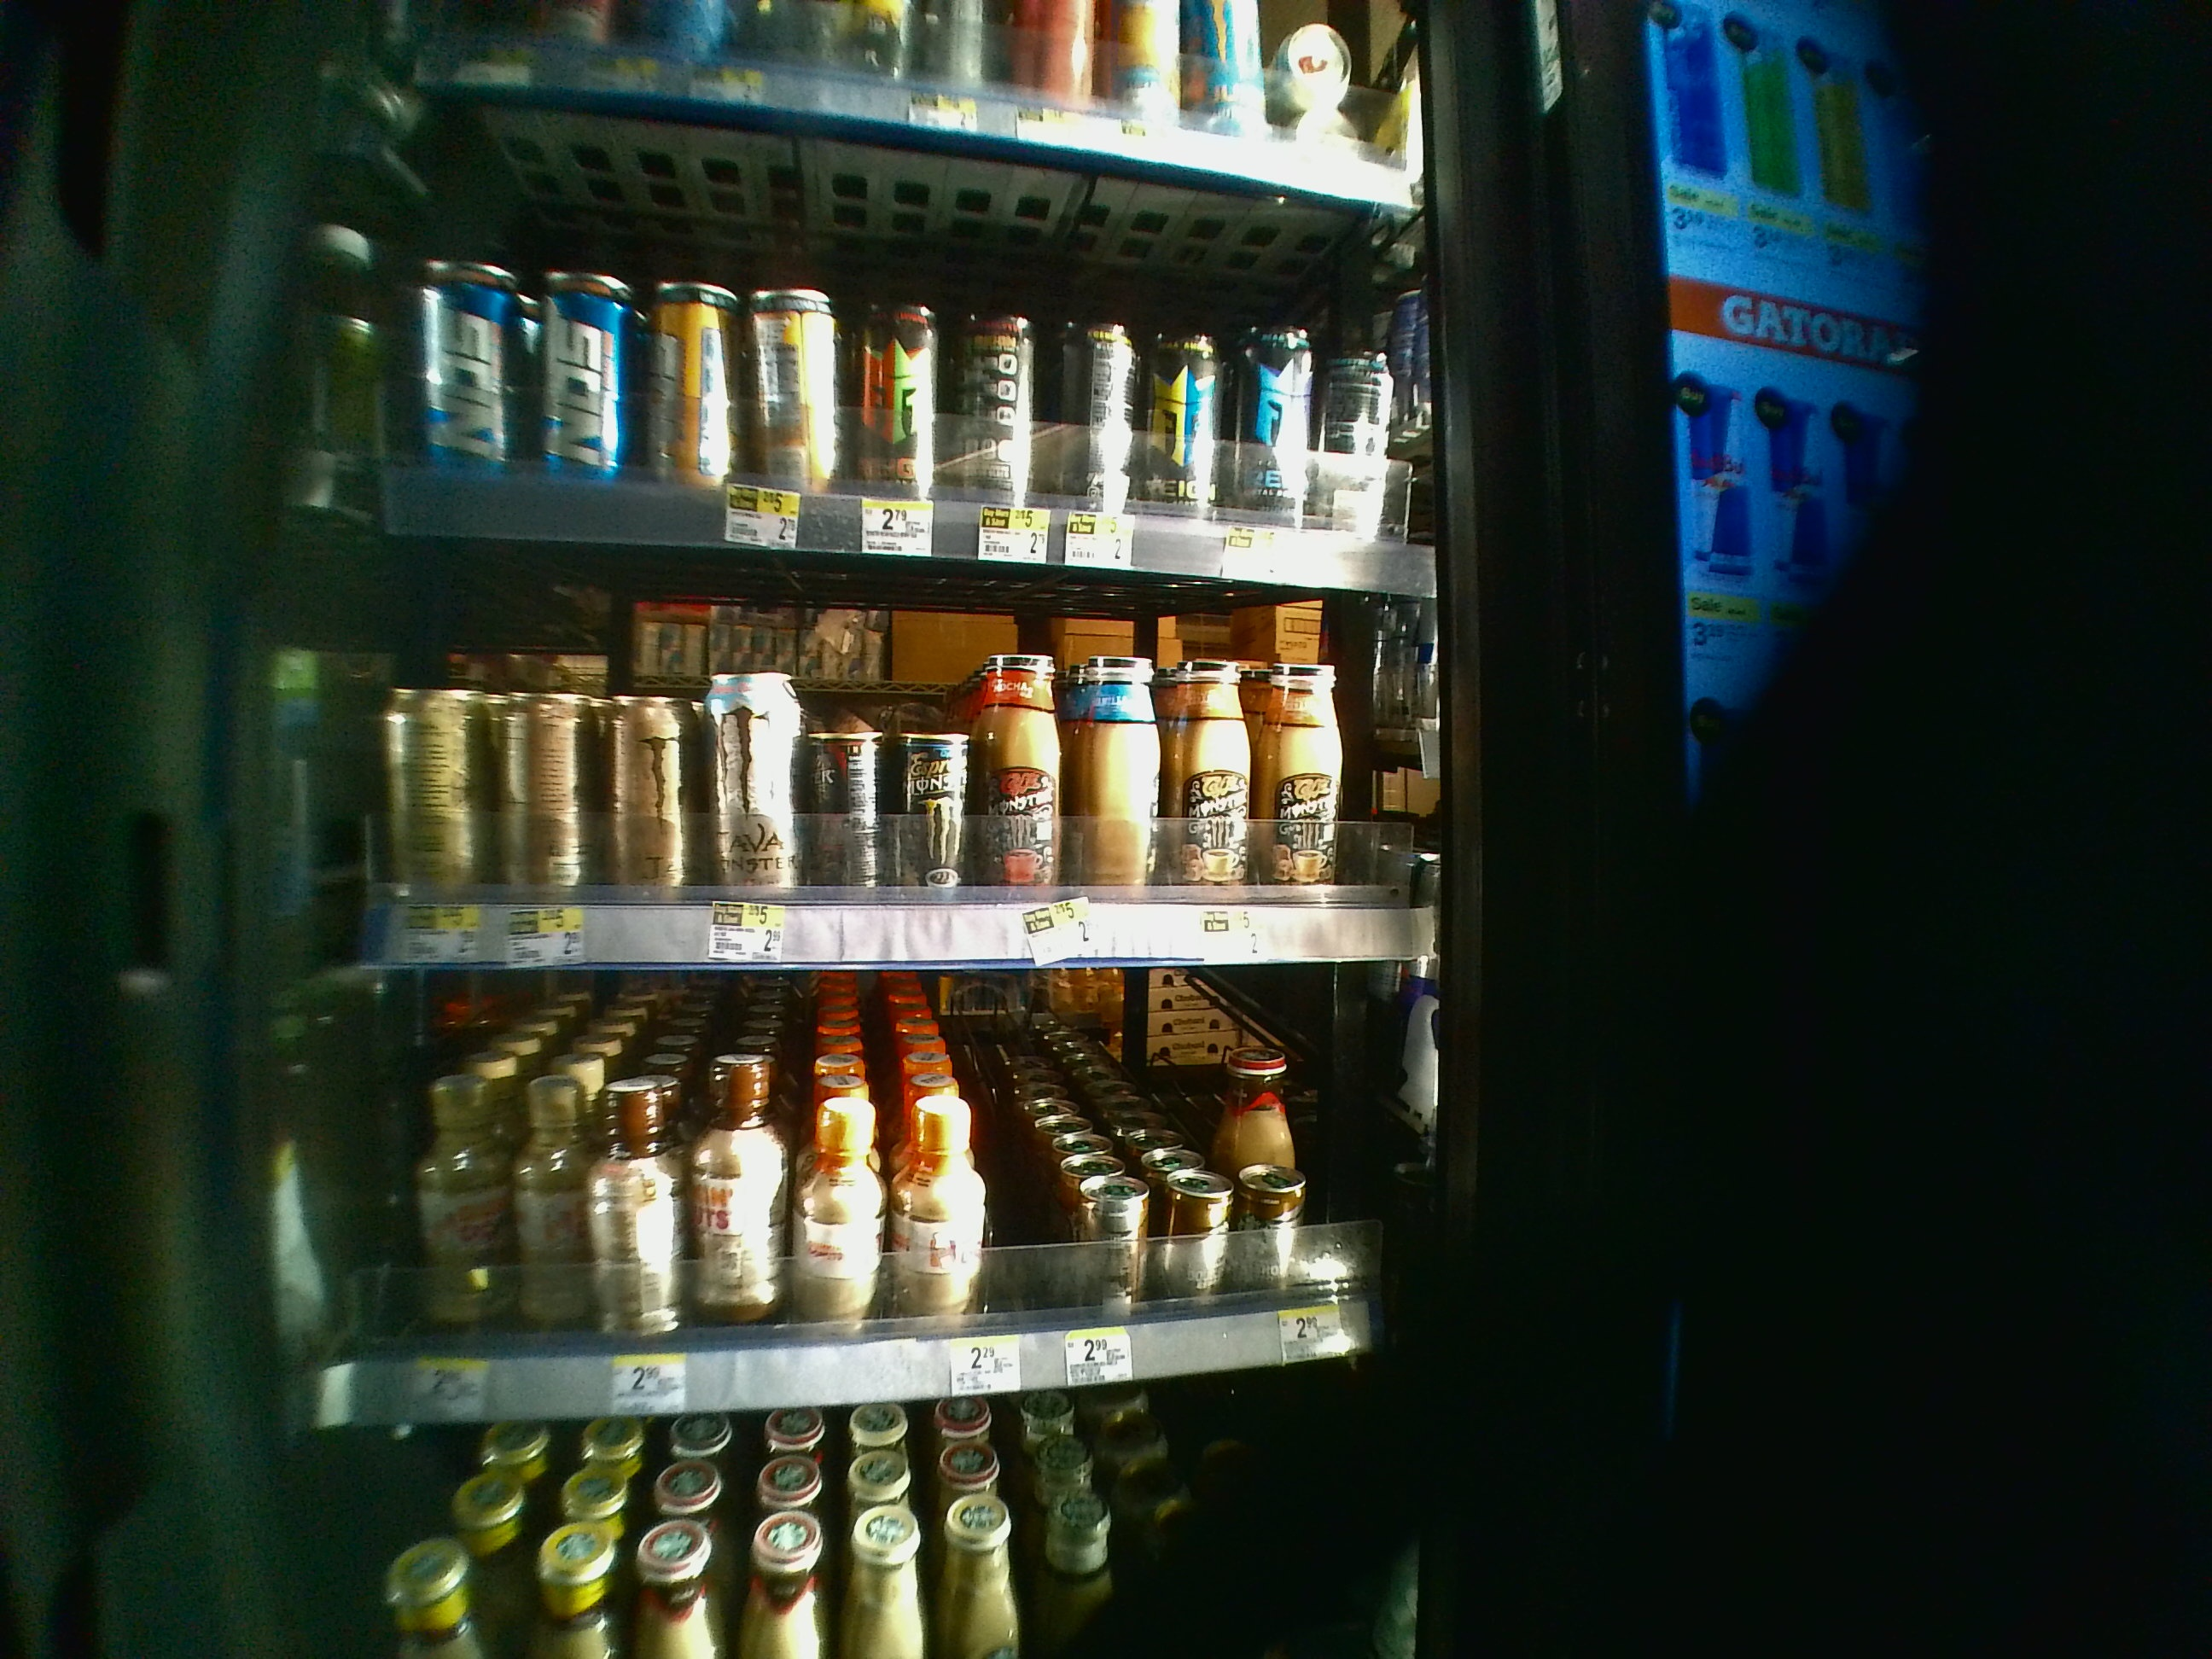shelf: (374, 538, 1454, 964)
